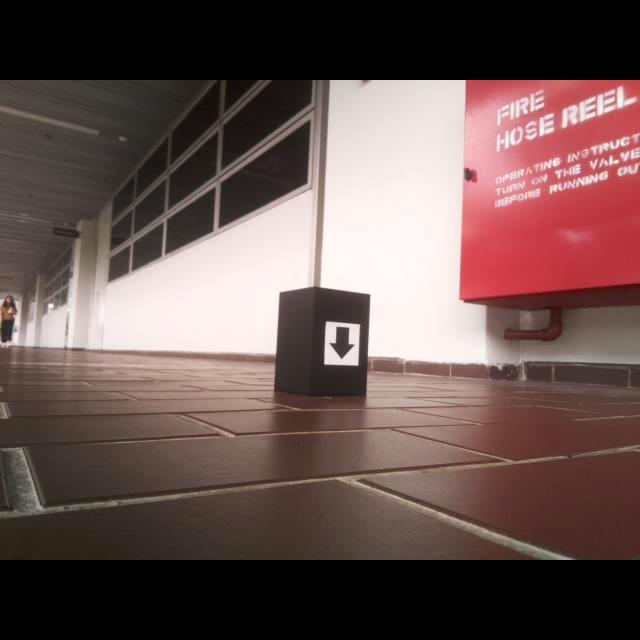DOWN: (328, 326, 356, 361)
